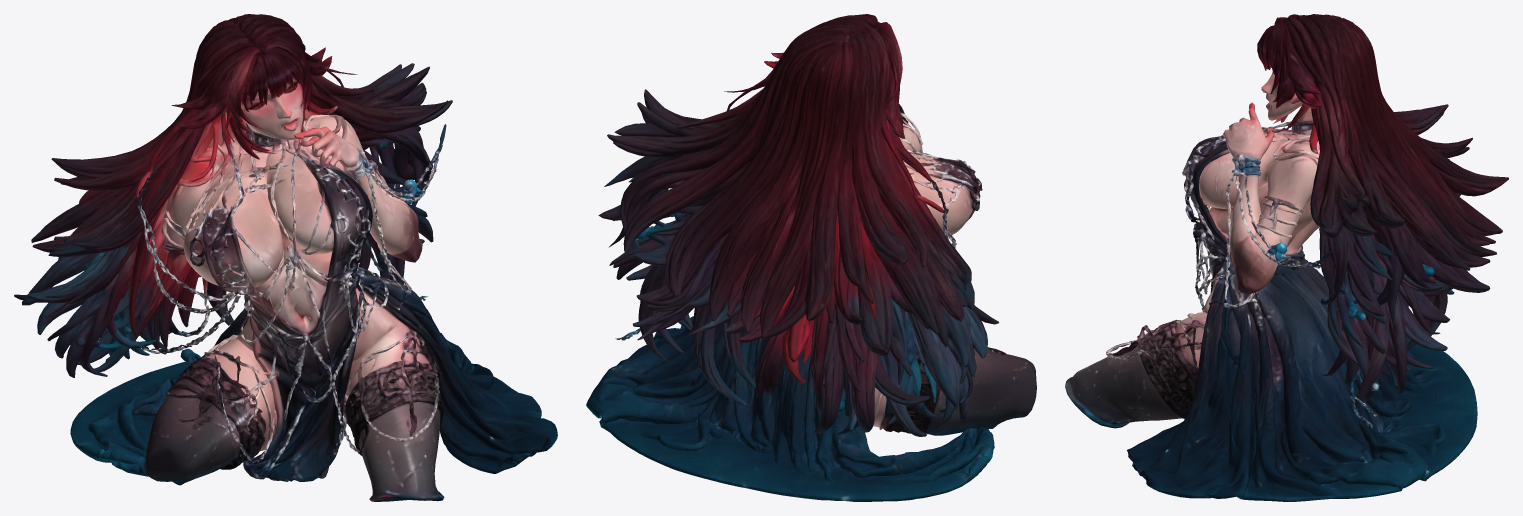
The model's file is 01a19d50-403b-76d4-bbc6-f644a2fbe239.glb.
The picture shows the model from 3 angles, left to right: view 1: azimuth 30°, elevation 25°; view 2: azimuth 150°, elevation 25°; view 3: azimuth 270°, elevation 25°; orthographic projection. The views are drawn at different scales.
Visible parts, largest first — view 1: model; view 2: model; view 3: model.
Boxes of the visible parts, x1=… form: model: x1=14, y1=14, x2=557, y2=501; model: x1=586, y1=14, x2=1036, y2=501; model: x1=1065, y1=14, x2=1508, y2=501.
Size of the model in its own units: 1.9 by 1.8 by 1.89.
1 material, 1 textured.
